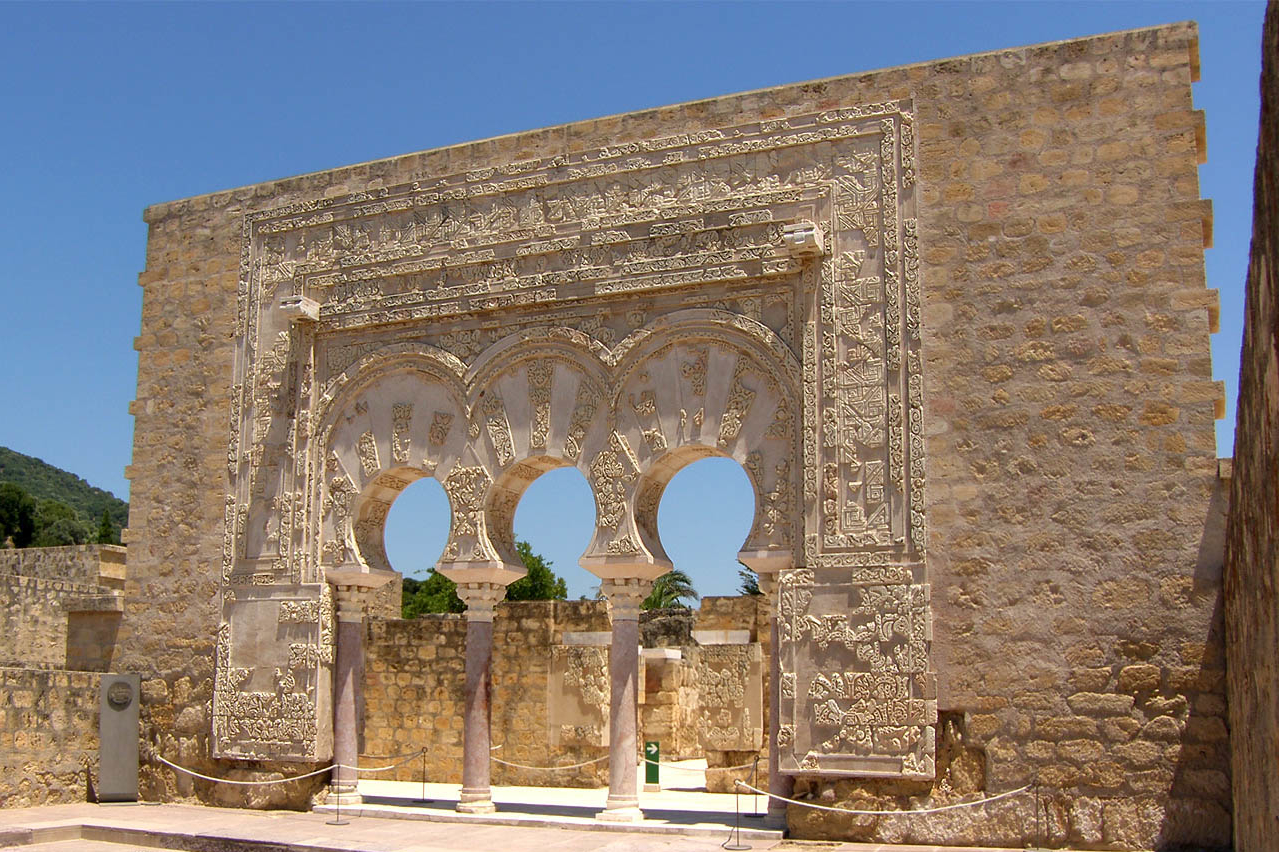arco-herradura: (617, 437, 773, 596), (477, 448, 620, 605), (347, 455, 474, 611)
